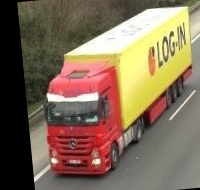truck: (33, 6, 200, 181)
